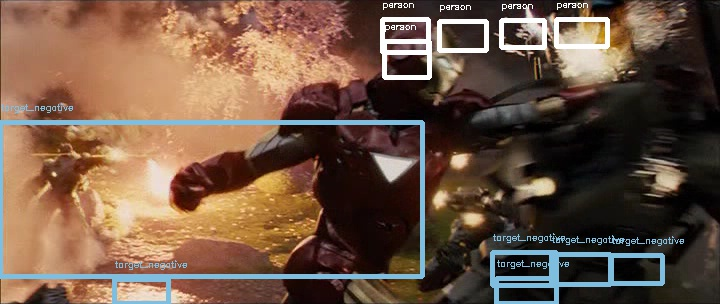person: (387, 21, 462, 101), (386, 21, 461, 101), (388, 21, 463, 101), (387, 20, 462, 100), (387, 22, 462, 102)
target_negative: (13, 37, 280, 167), (8, 194, 255, 226), (508, 169, 568, 239), (55, 132, 172, 161), (690, 196, 718, 243), (212, 295, 403, 300)
